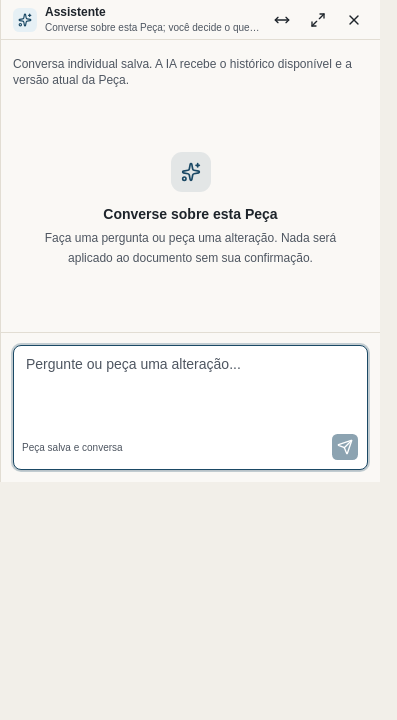
Test case: AssistantPanel › bloqueia aplicação e explica o estado SALVANDO
Type "Reescreva o parágrafo inicial." into the text box named "O que você quer que a IA faça?". click: (190, 386)
box: [14, 346, 367, 426]
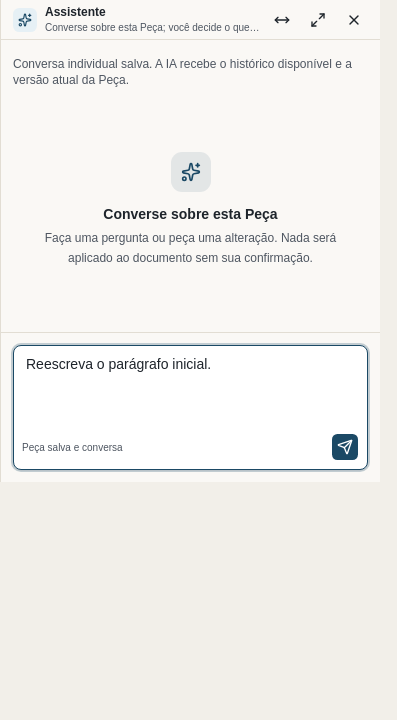
Click the button named "Enviar para IA". click: (345, 447)
box: [331, 433, 359, 461]
(page scrolled)
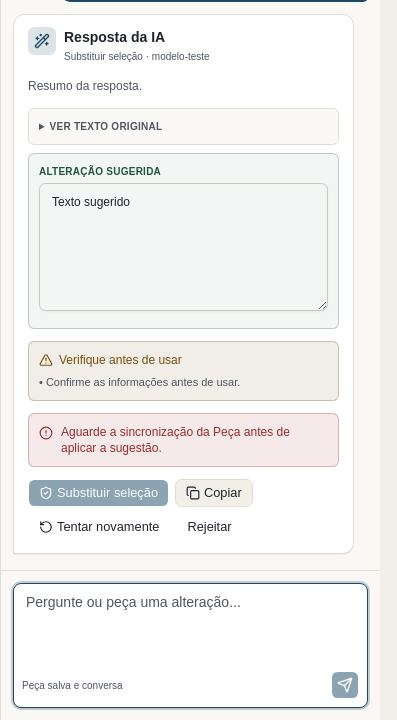
Check: the text "Aguarde a sincronização da Peça antes de aplicar a sugestão." is shown, box [28, 413, 339, 467]
Check: the button "Substituir seleção" is disabled, box [28, 479, 169, 507]
